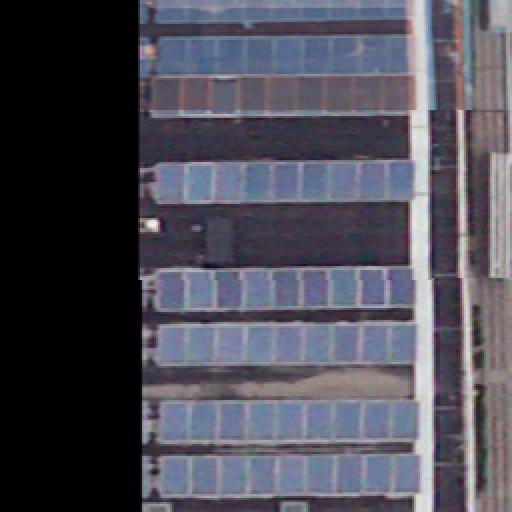solar-panel: (251, 36, 437, 120), (256, 397, 444, 443), (255, 265, 441, 311), (255, 322, 441, 366), (255, 160, 441, 204), (257, 455, 447, 497), (253, 0, 435, 24)
